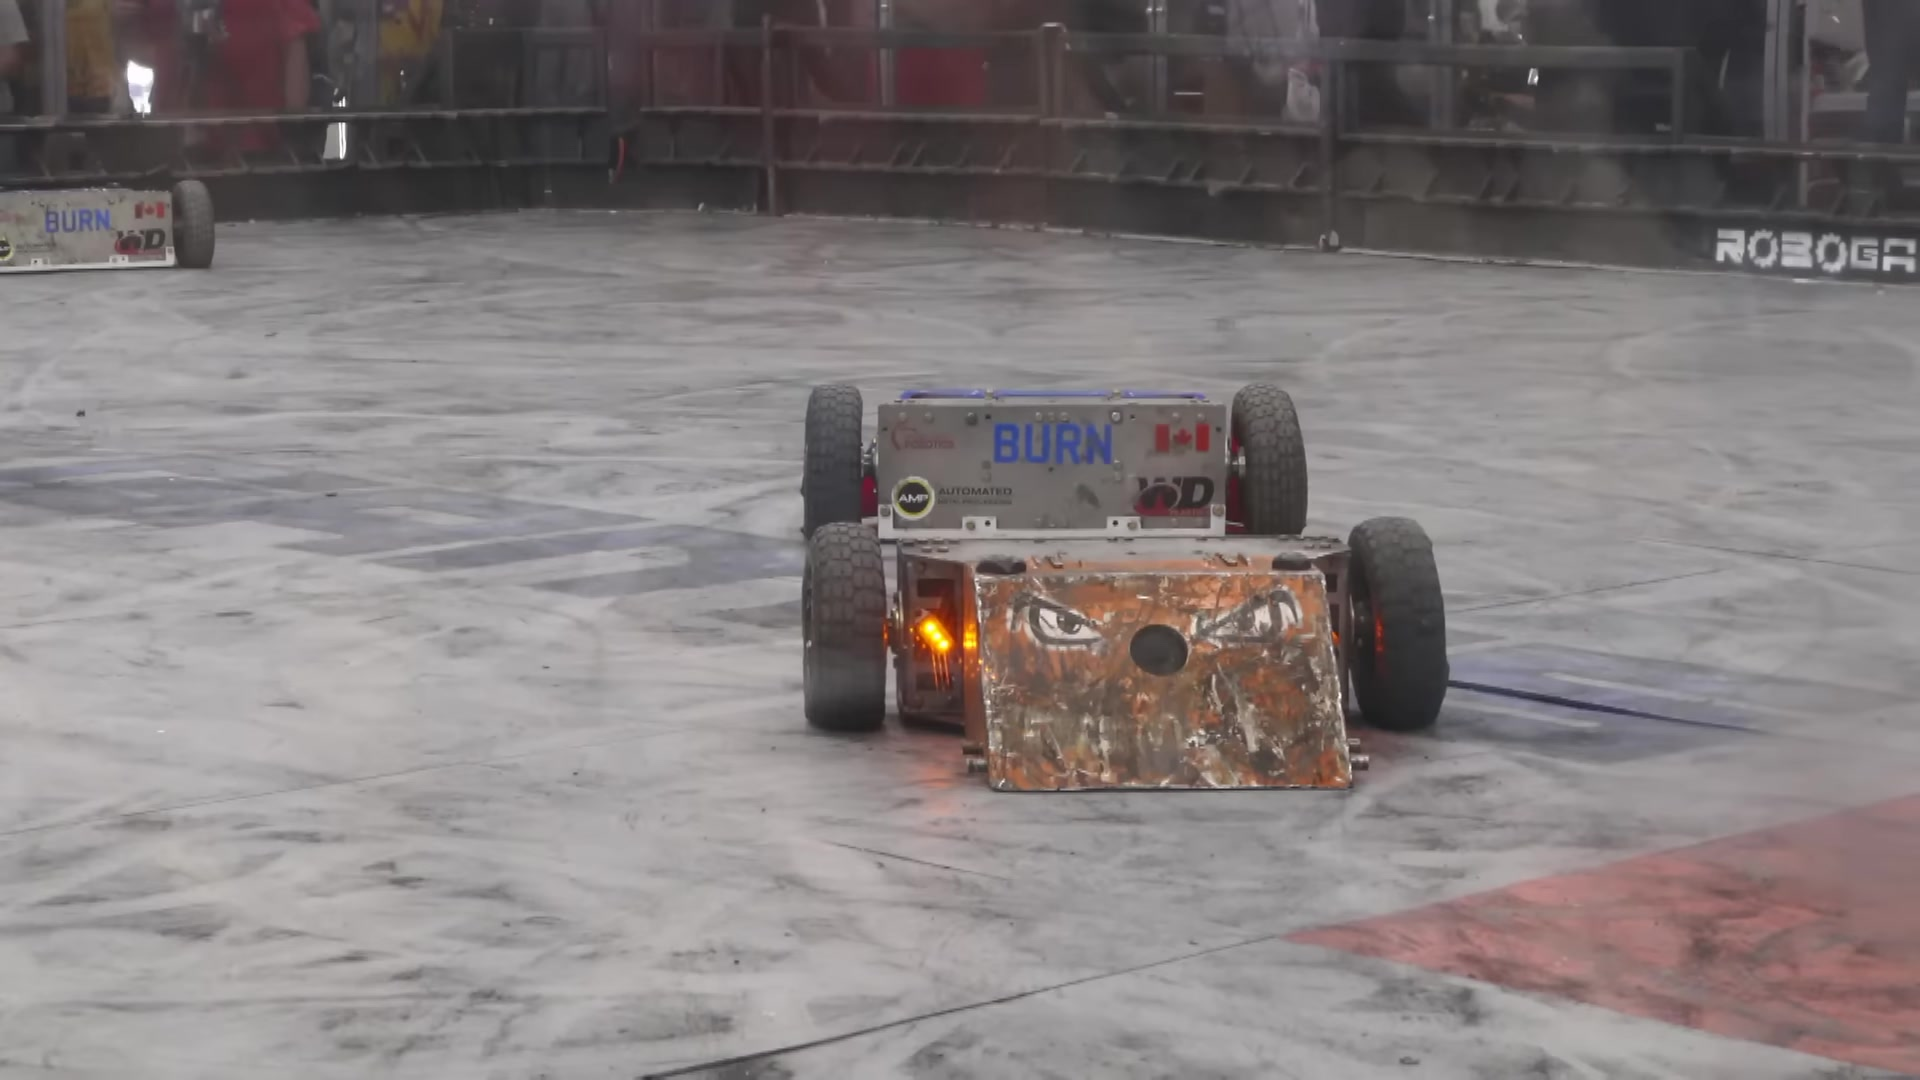combatbot: (799, 516, 1458, 803), (808, 377, 1308, 533), (0, 181, 222, 280)
